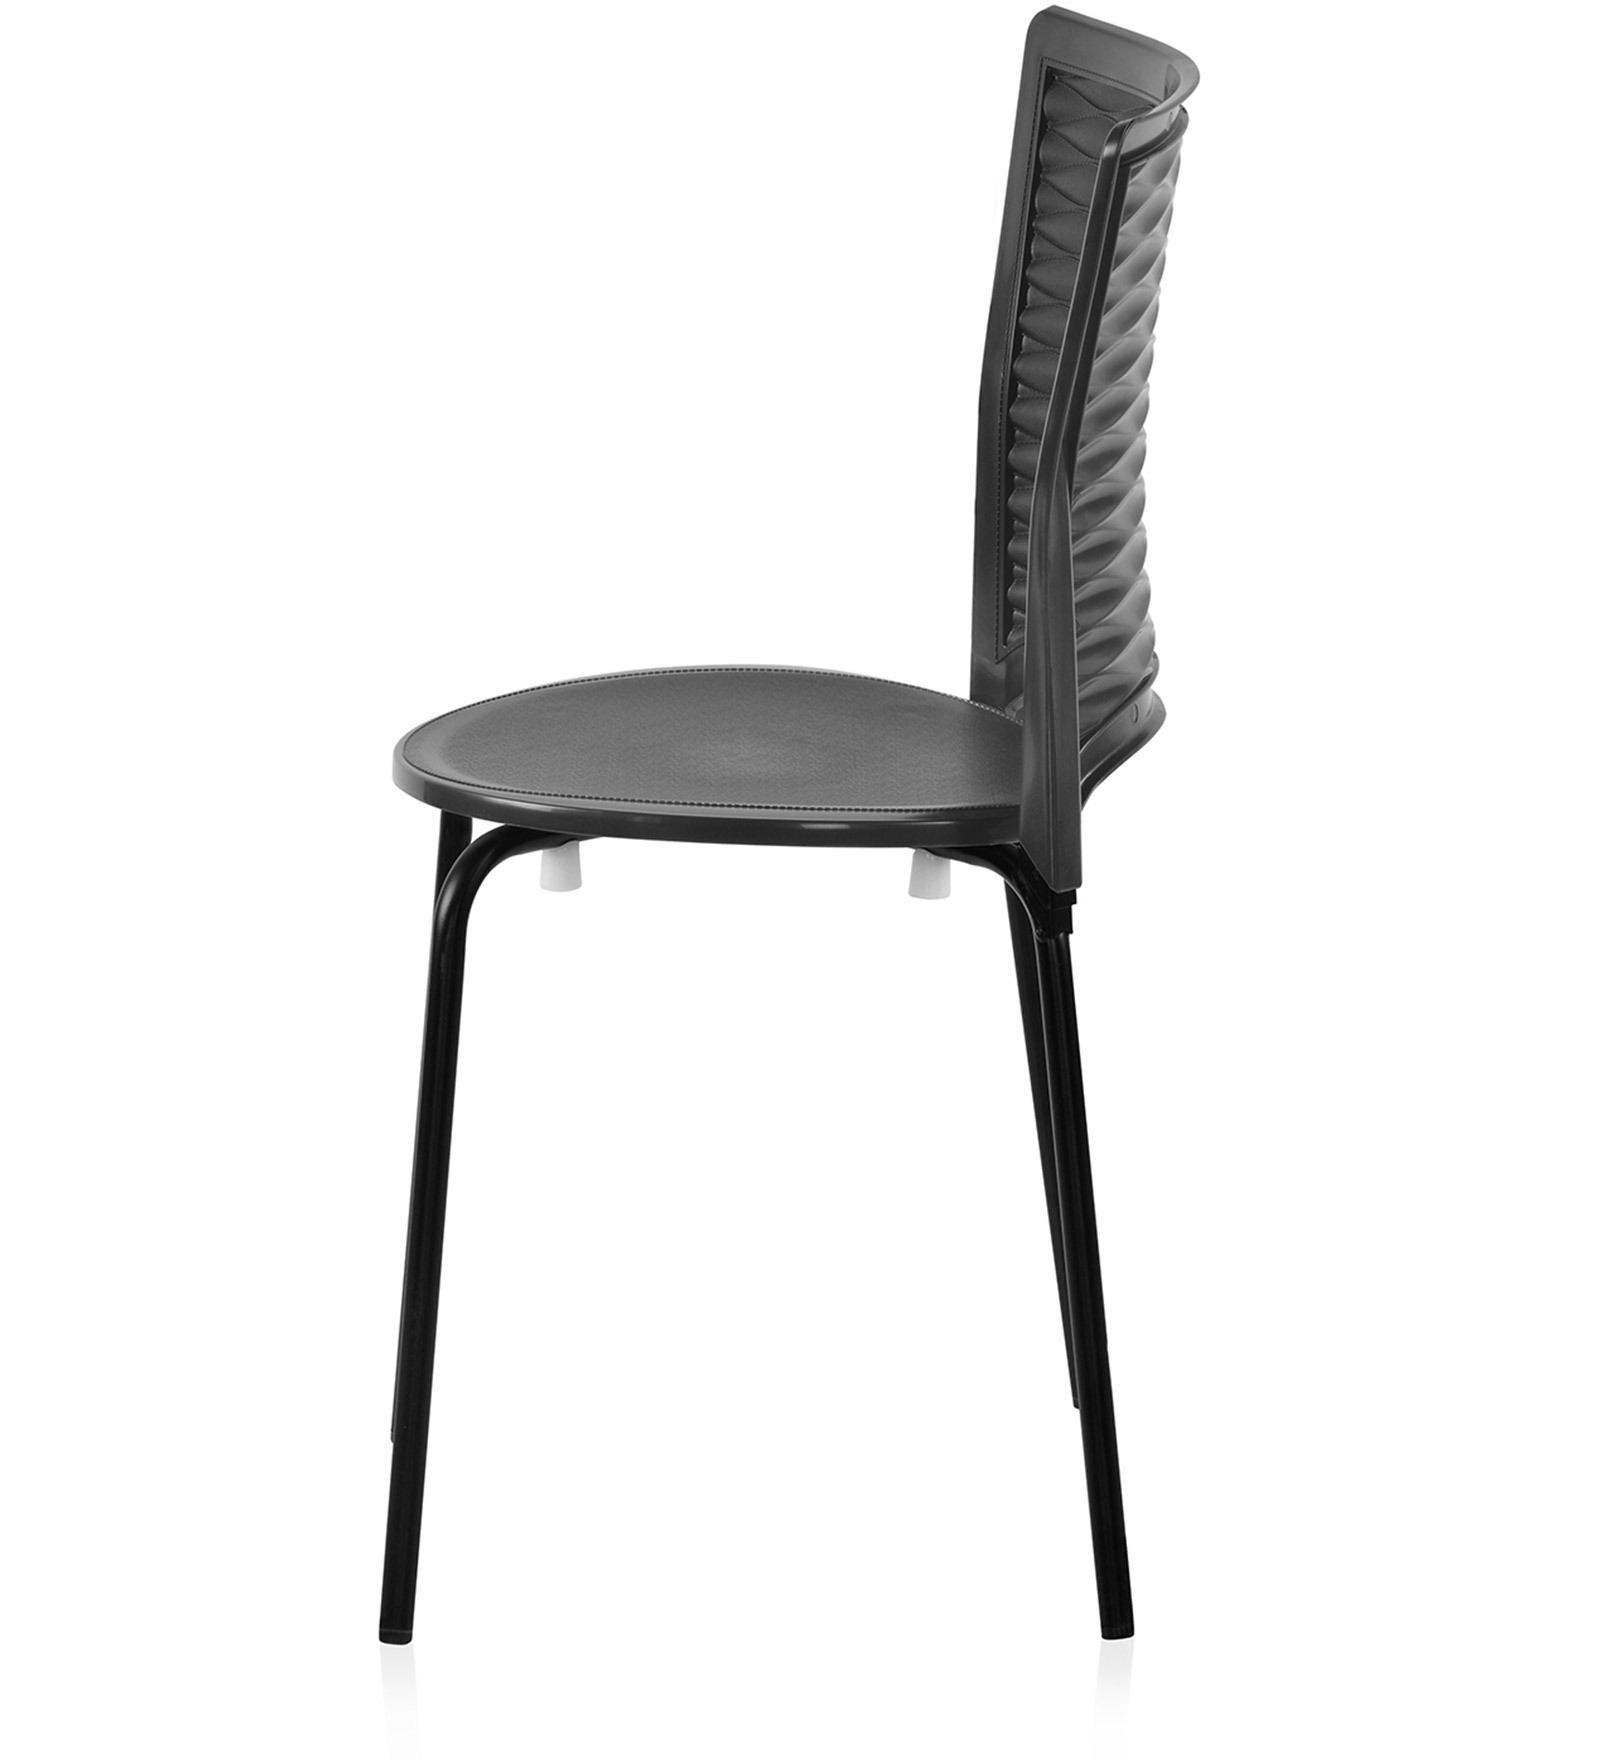Novella Series - 14 Chair (Set of 2) in Black Colour by Nilkamal: (375, 8, 1202, 1643)
